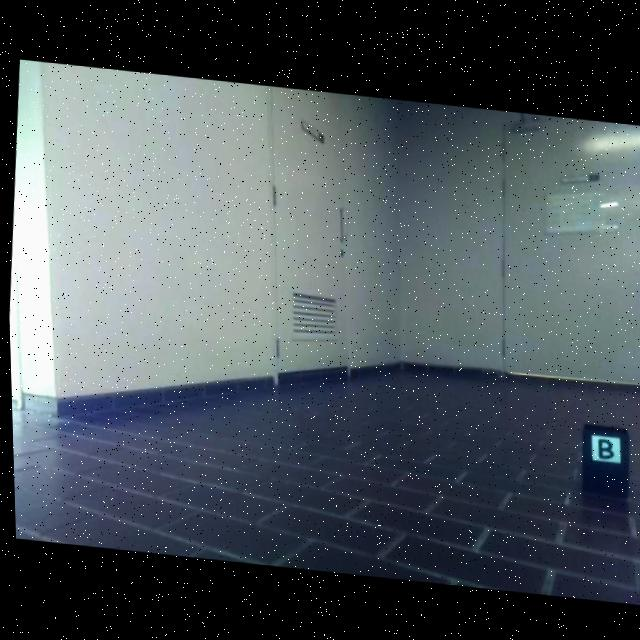B: (594, 433, 611, 454)
